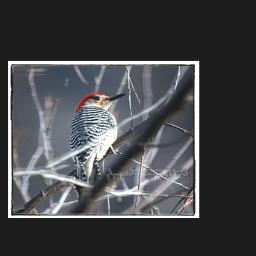Woodpecker: (66, 88, 130, 184)
